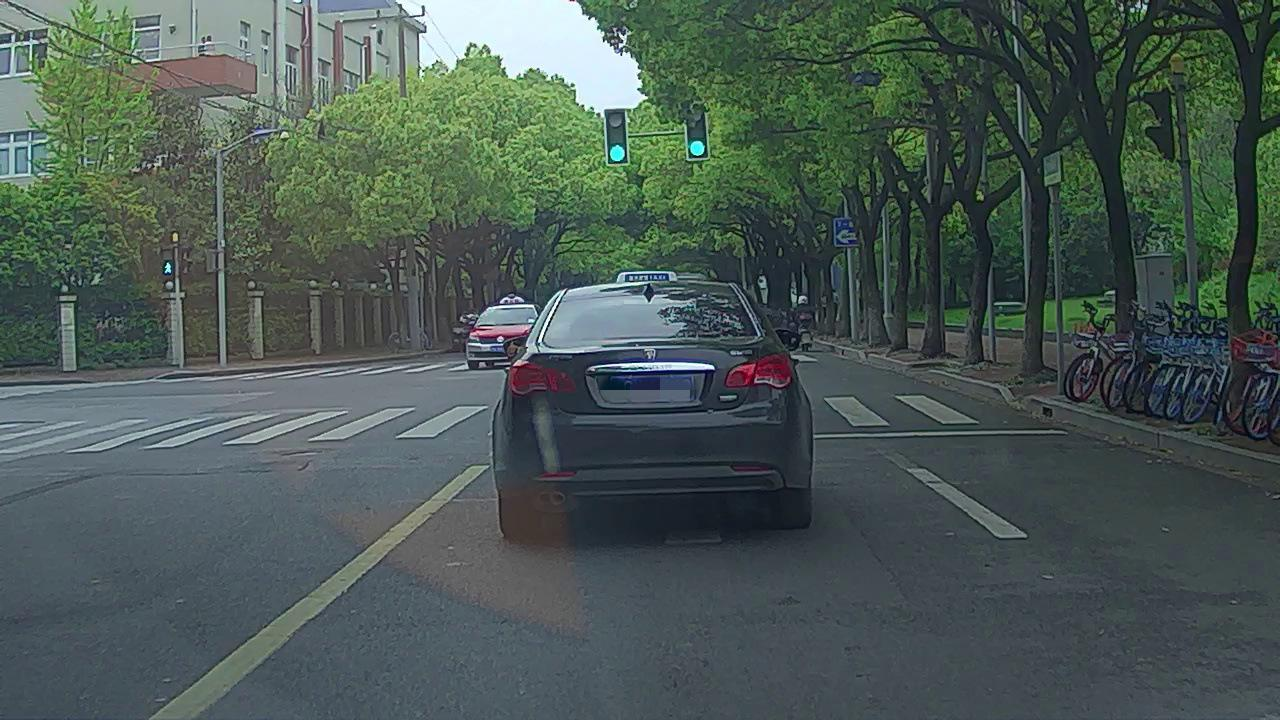traffic_light: (605, 110, 628, 165), (686, 114, 707, 158)
